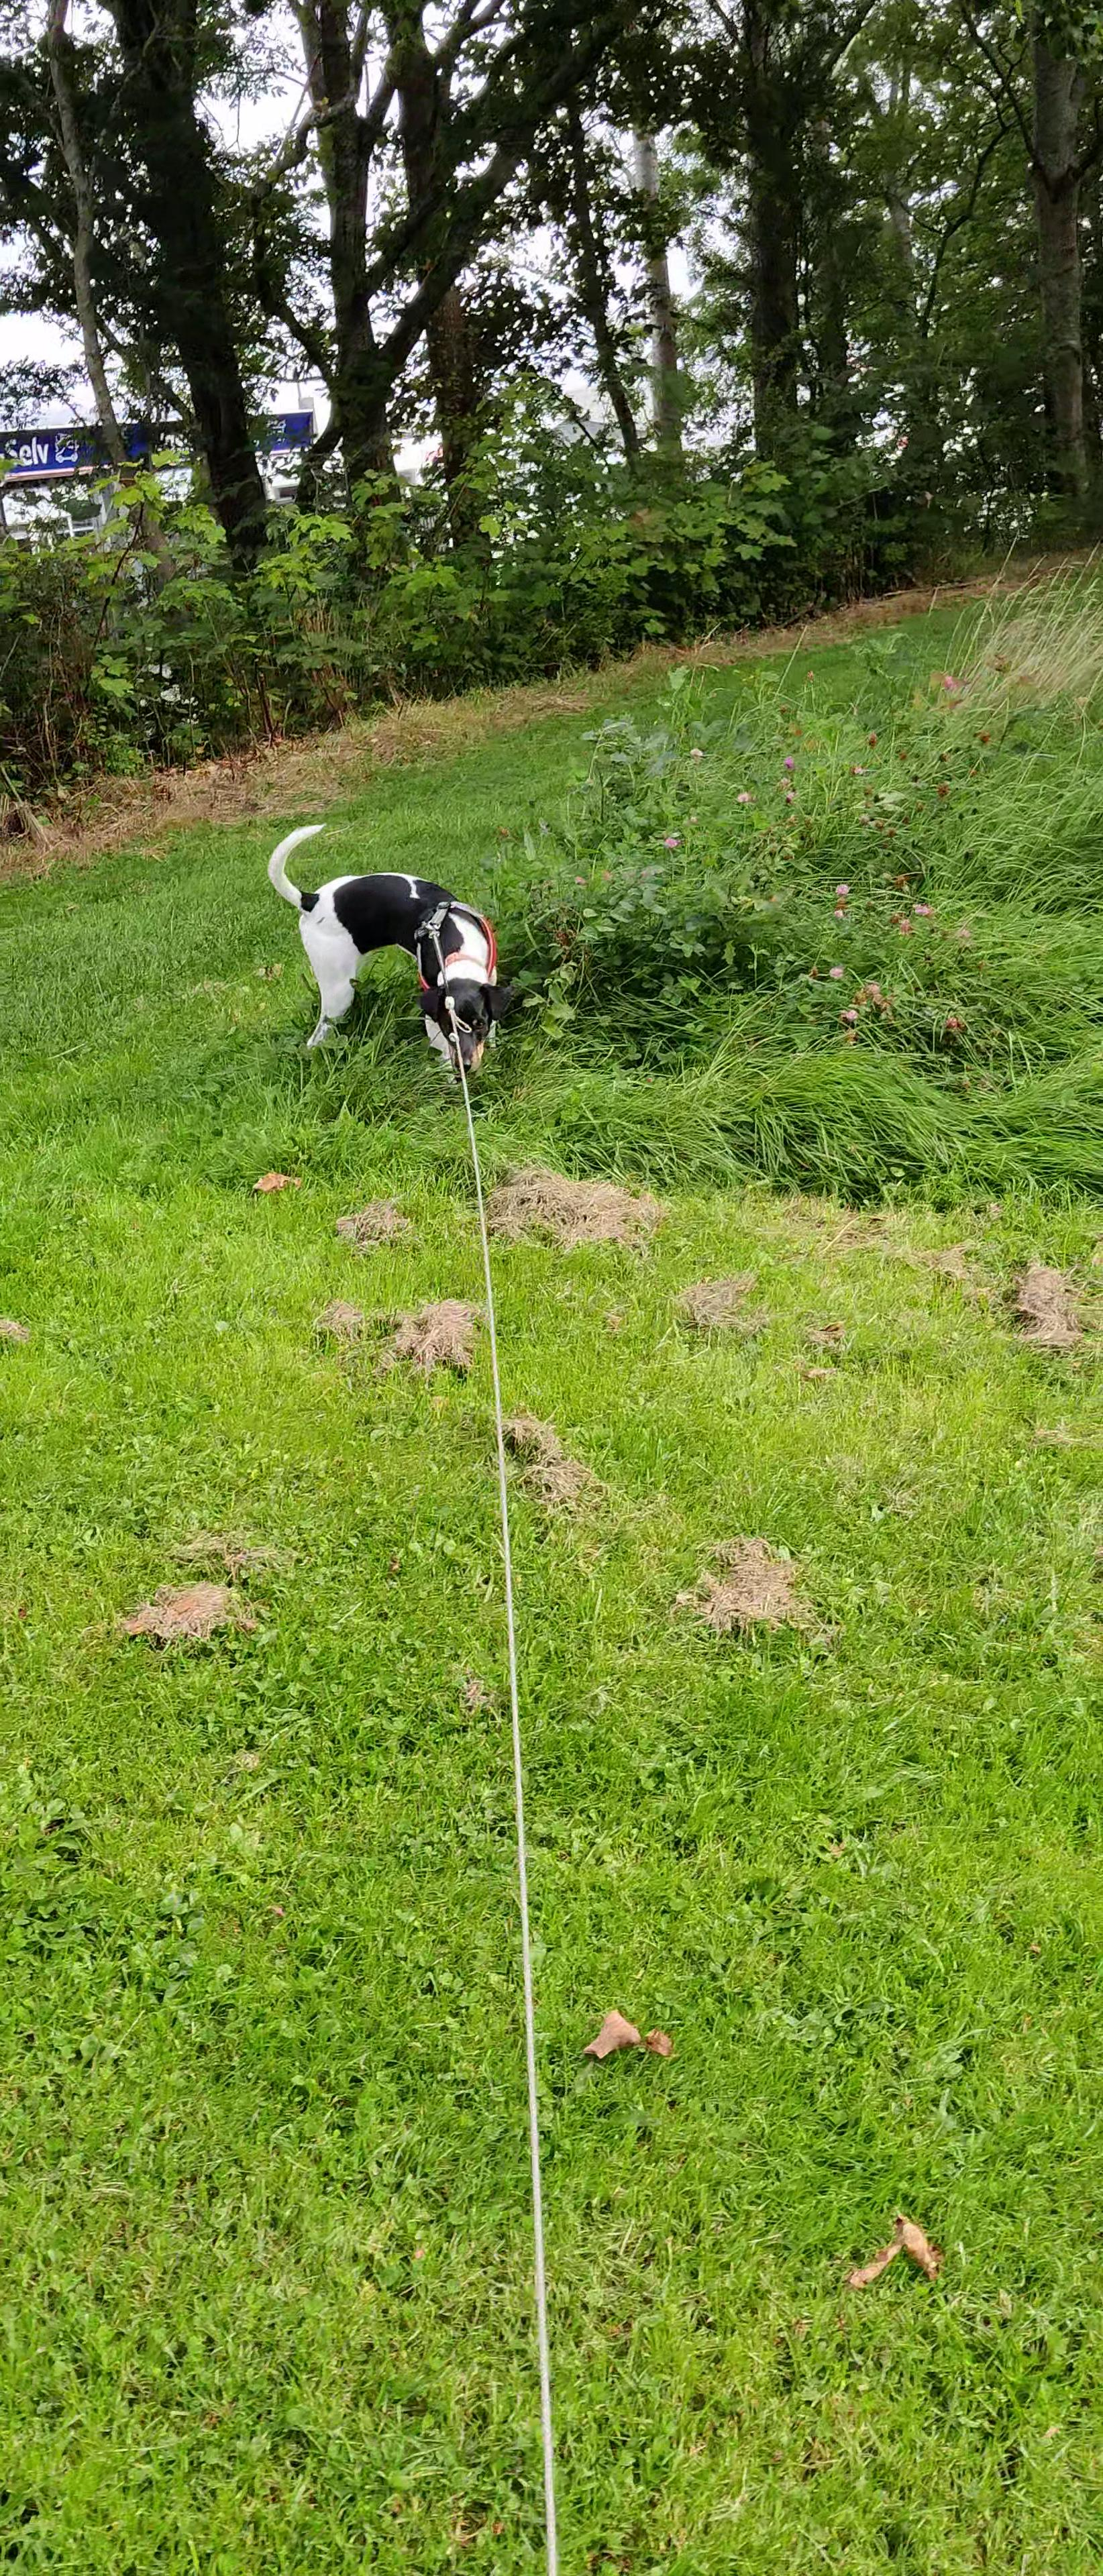Dog: (261, 818, 511, 1084)
